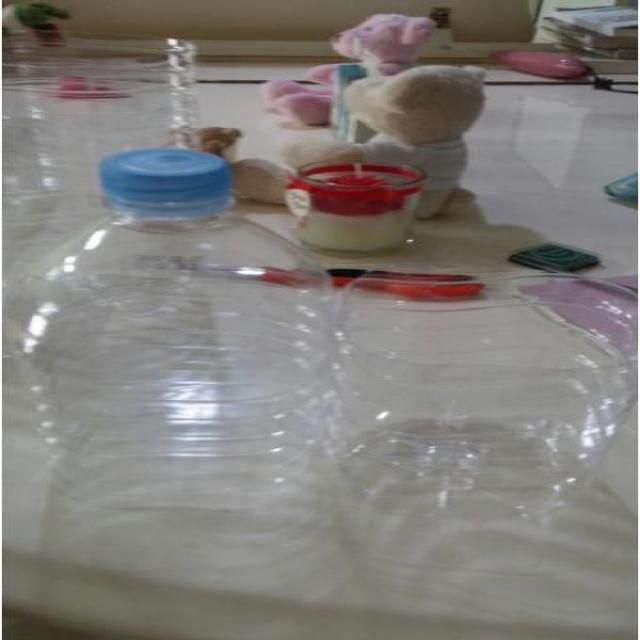bottle: (15, 151, 375, 591)
